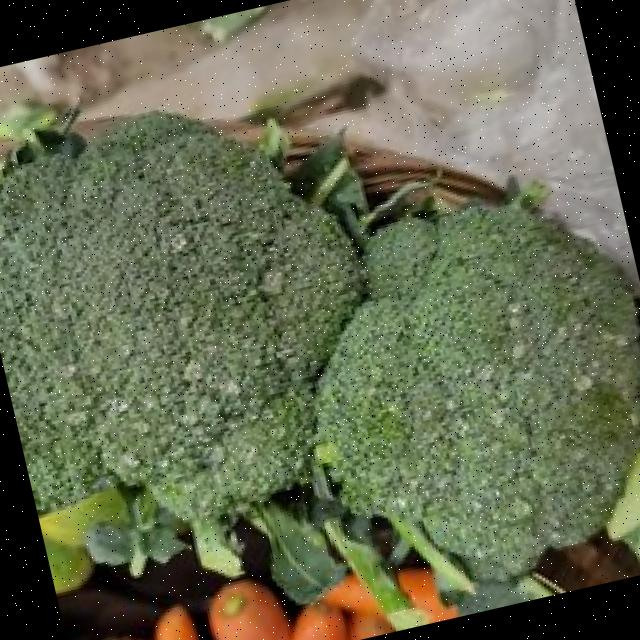Broccoli: (0, 116, 360, 518), (0, 117, 361, 517), (315, 203, 640, 578), (317, 202, 640, 577)
